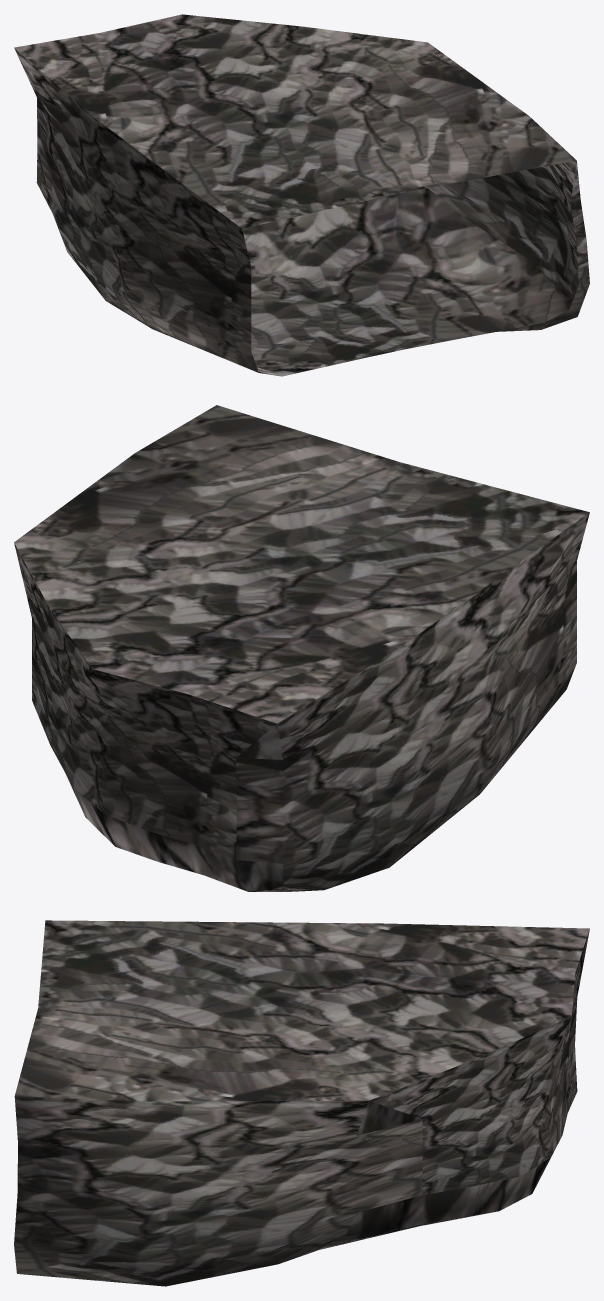
The model's file is INST_SM_LEDGEB.obj.
3 views of the same model, one above another, from view 1: azimuth 30°, elevation 25°; view 2: azimuth 150°, elevation 25°; view 3: azimuth 270°, elevation 25° (orthographic). The views are drawn at different scales.
Parts seen in each view (by area): view 1: LedgeB; view 2: LedgeB; view 3: LedgeB.
Boxes of the visible parts, x1,y1,x2,y2 form: LedgeB: (14, 14, 589, 376); LedgeB: (14, 405, 589, 891); LedgeB: (14, 920, 589, 1286).
Bounding box in the file's own units: 307 × 152 × 360.
